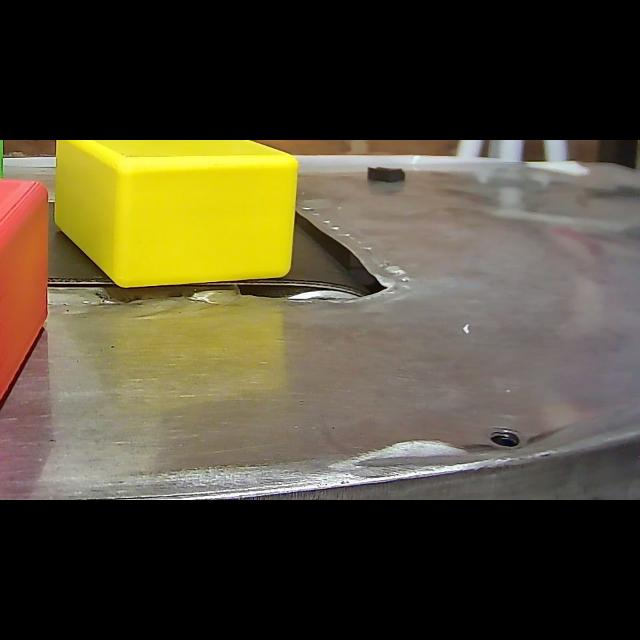greenBox: (0, 140, 6, 182)
redBox: (0, 164, 56, 432)
yellowBox: (50, 140, 306, 290)
